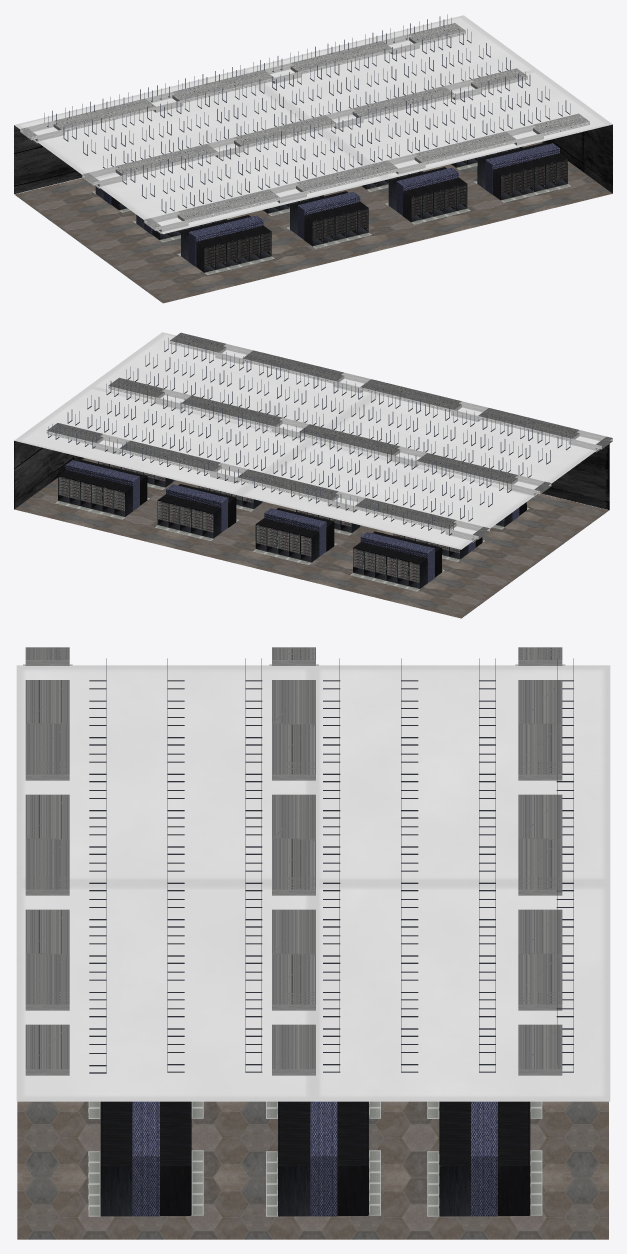
The model's file is Server_Room_01_05_Final.fbx.
3 renders of one model, top to bottom at view 1: azimuth 30°, elevation 25°; view 2: azimuth 150°, elevation 25°; view 3: azimuth 270°, elevation 25°, orthographic. The views are drawn at different scales.
Visible parts, largest first — view 1: obj3, obj2, obj32, obj31, obj1, obj35, obj36, obj43, obj40, obj3282, obj3147, obj3417 (+1 smaller); view 2: obj3, obj2, obj32, obj31, obj1, obj34, obj37, obj44, obj41, obj28, obj204, obj339; view 3: obj3, obj32, obj2, obj31, obj36, obj38, obj37, obj1824, obj3012, obj609, obj636, obj1797 (+1 smaller).
Part boxes in pixels (bbox=[...]): obj3: bbox=[14, 15, 612, 234]; obj2: bbox=[14, 142, 612, 303]; obj32: bbox=[20, 23, 589, 233]; obj31: bbox=[44, 14, 570, 213]; obj1: bbox=[14, 124, 612, 194]; obj35: bbox=[188, 215, 263, 266]; obj36: bbox=[485, 143, 559, 194]; obj43: bbox=[297, 191, 360, 239]; obj40: bbox=[396, 167, 458, 215]; obj3282: bbox=[403, 189, 422, 221]; obj3147: bbox=[492, 167, 511, 200]; obj3417: bbox=[304, 213, 323, 246]; obj3: bbox=[14, 332, 599, 549]; obj2: bbox=[14, 458, 608, 618]; obj32: bbox=[46, 332, 612, 542]; obj31: bbox=[48, 338, 570, 535]; obj1: bbox=[14, 441, 609, 509]; obj34: bbox=[360, 532, 434, 582]; obj37: bbox=[65, 460, 139, 510]; obj44: bbox=[264, 508, 326, 556]; obj41: bbox=[166, 484, 228, 532]; obj28: bbox=[408, 555, 427, 588]; obj204: bbox=[300, 529, 319, 562]; obj339: bbox=[202, 505, 221, 538]; obj3: bbox=[16, 665, 610, 1101]; obj32: bbox=[23, 647, 564, 1075]; obj2: bbox=[17, 1101, 608, 1239]; obj31: bbox=[89, 658, 573, 1073]; obj36: bbox=[132, 1101, 159, 1216]; obj38: bbox=[310, 1101, 337, 1216]; obj37: bbox=[471, 1101, 497, 1216]; obj1824: bbox=[278, 1155, 310, 1216]; obj3012: bbox=[100, 1155, 132, 1216]; obj609: bbox=[498, 1155, 530, 1215]; obj636: bbox=[439, 1155, 470, 1216]; obj1797: bbox=[337, 1155, 368, 1215].
Size of the model in its own units: 3475 by 607 by 1972.
Materials: 13 (10 with a texture image).
